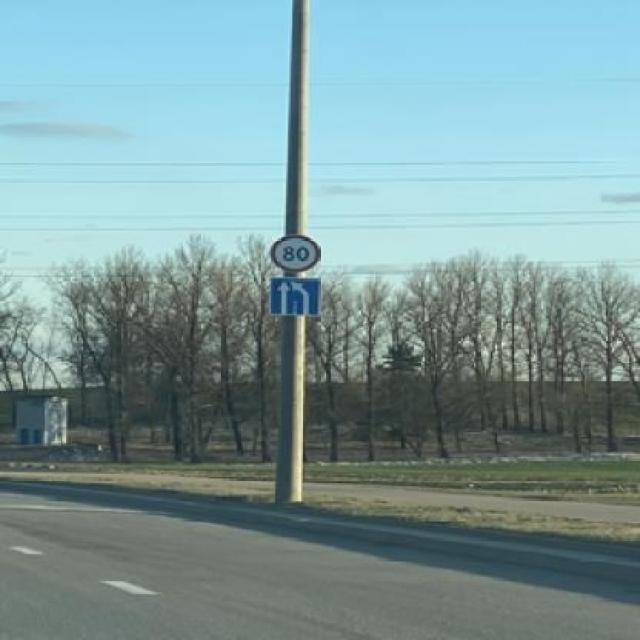forb_speed_over_80: (270, 235, 322, 273)
